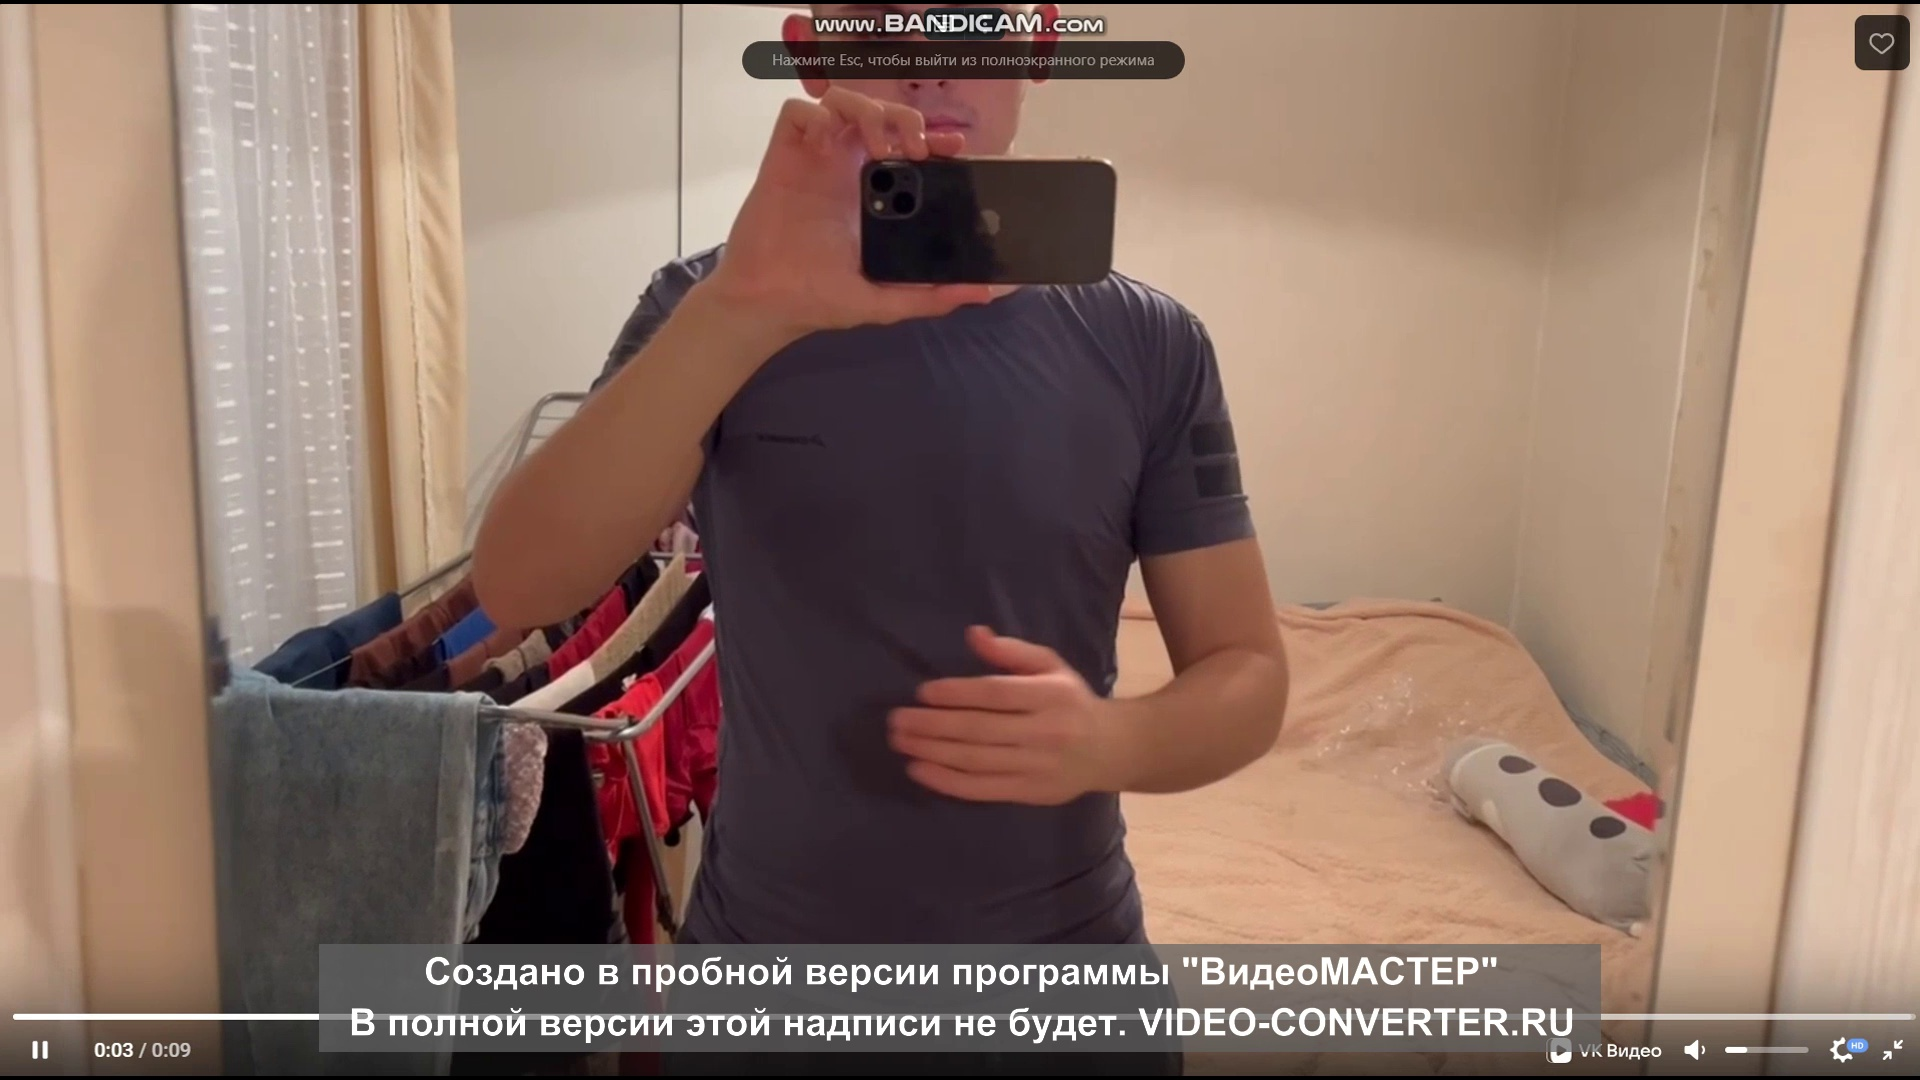Кисть: (884, 609, 1105, 808)
